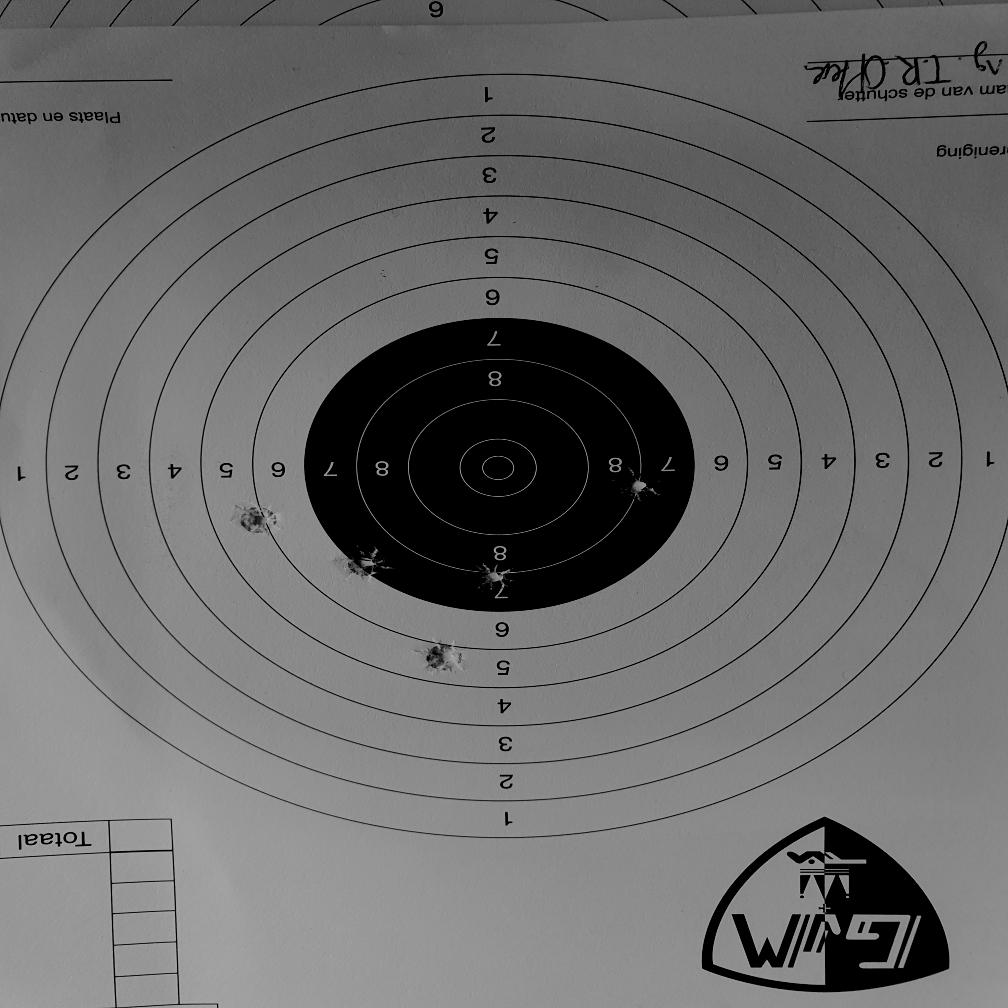6: (231, 503, 285, 535), (418, 639, 464, 675)
7: (339, 544, 387, 577)
8: (612, 467, 664, 507), (467, 560, 516, 598)
Target: (0, 69, 1008, 842)
black_contour: (305, 318, 697, 612)
